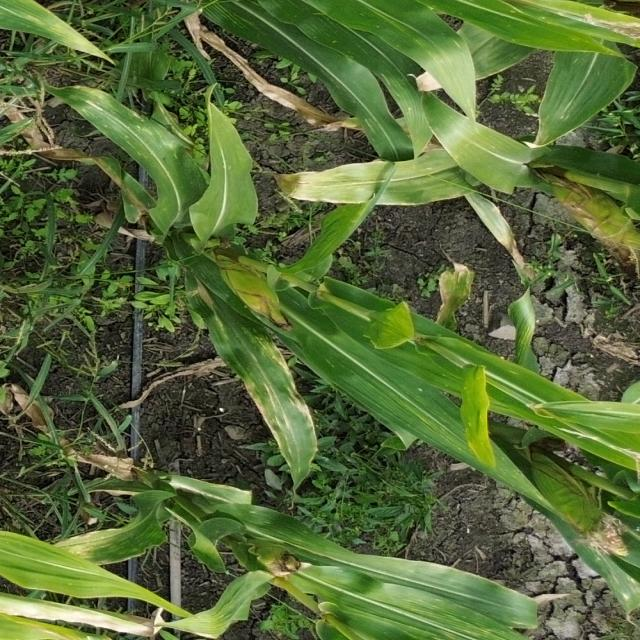gray-leaf-spot: (231, 344, 316, 452)
northern-leaf-blight: (568, 9, 640, 41)
southern-leaf-blight: (74, 91, 176, 158), (67, 534, 121, 562)
